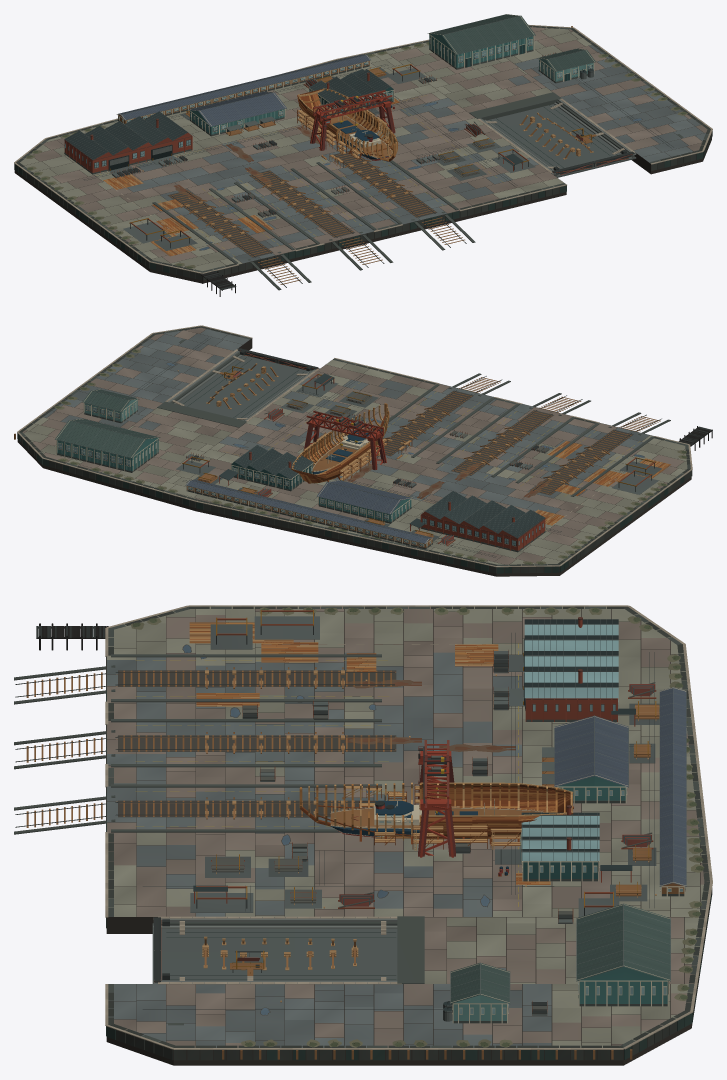
Rendered from kit-DnPIREjt.glb.
3 views of the same model, one above another, from view 1: azimuth 30°, elevation 25°; view 2: azimuth 150°, elevation 25°; view 3: azimuth 270°, elevation 25° (orthographic). The views are drawn at different scales.
Visible parts, largest first — view 1: yard-slabs, sheds, quay, dock, yard-markings, yard-topdressing, yard-joints, yard-stock, timber-hull, gantry, launch; view 2: yard-slabs, quay, sheds, dock, yard-topdressing, yard-markings, yard-joints, yard-stock, timber-hull, gantry, launch; view 3: yard-slabs, quay, sheds, dock, yard-topdressing, yard-markings, yard-joints, yard-stock, timber-hull, launch, gantry.
Part boxes in pixels (x1=…): yard-slabs: x1=20, y1=26, x2=708, y2=271; sheds: x1=64, y1=14, x2=595, y2=174; quay: x1=14, y1=24, x2=712, y2=296; dock: x1=469, y1=92, x2=636, y2=177; yard-markings: x1=96, y1=95, x2=503, y2=257; yard-topdressing: x1=16, y1=25, x2=710, y2=272; yard-joints: x1=24, y1=28, x2=704, y2=269; yard-stock: x1=111, y1=52, x2=593, y2=248; timber-hull: x1=297, y1=88, x2=397, y2=161; gantry: x1=310, y1=90, x2=395, y2=150; launch: x1=319, y1=104, x2=391, y2=160; yard-slabs: x1=22, y1=327, x2=689, y2=565; quay: x1=14, y1=325, x2=712, y2=576; sheds: x1=55, y1=389, x2=545, y2=552; dock: x1=157, y1=348, x2=319, y2=427; yard-topdressing: x1=19, y1=326, x2=690, y2=565; yard-markings: x1=223, y1=382, x2=668, y2=524; yard-joints: x1=24, y1=329, x2=685, y2=564; yard-stock: x1=182, y1=373, x2=656, y2=546; timber-hull: x1=291, y1=403, x2=389, y2=483; gantry: x1=304, y1=410, x2=386, y2=469; launch: x1=312, y1=427, x2=373, y2=474; yard-slabs: x1=107, y1=606, x2=709, y2=1047; quay: x1=14, y1=605, x2=712, y2=1065; sheds: x1=450, y1=617, x2=686, y2=1023; dock: x1=152, y1=916, x2=424, y2=984; yard-topdressing: x1=108, y1=606, x2=709, y2=1047; yard-markings: x1=118, y1=622, x2=550, y2=906; yard-joints: x1=106, y1=609, x2=703, y2=1047; yard-stock: x1=193, y1=610, x2=659, y2=1021; timber-hull: x1=299, y1=782, x2=573, y2=850; launch: x1=330, y1=799, x2=543, y2=837; gantry: x1=418, y1=740, x2=455, y2=857.
Bounding box in the file's own units: 850 × 77.71 × 565.
